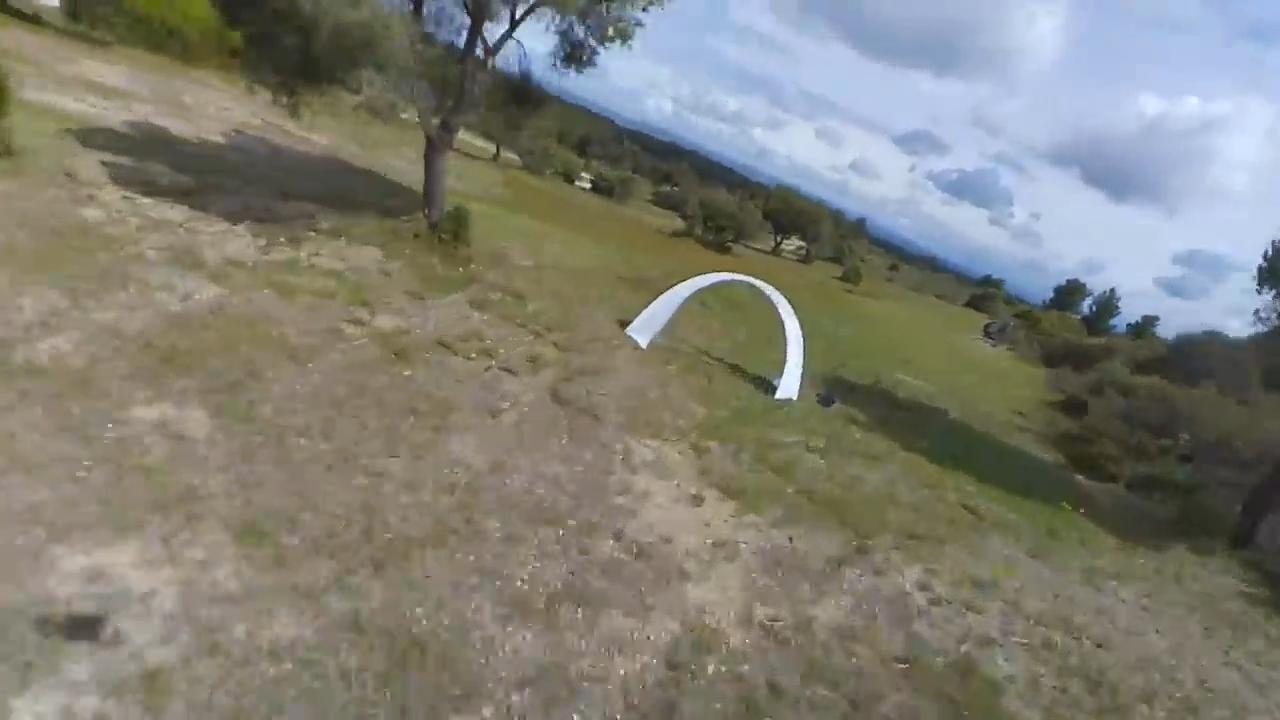gate: (623, 270, 805, 401)
